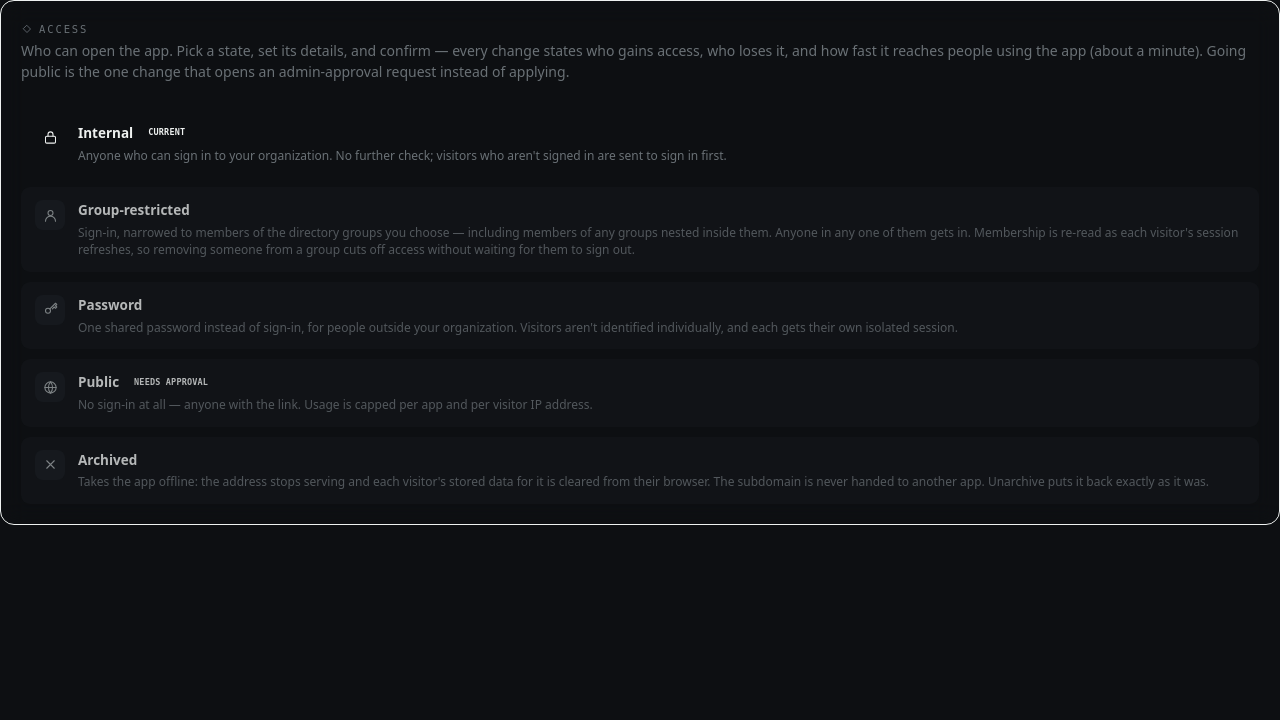
Scenario: AccessTab selector › opens an approval request to go public, with a reason for review
Click the button "Public" at [99, 382], box [35, 372, 593, 413]
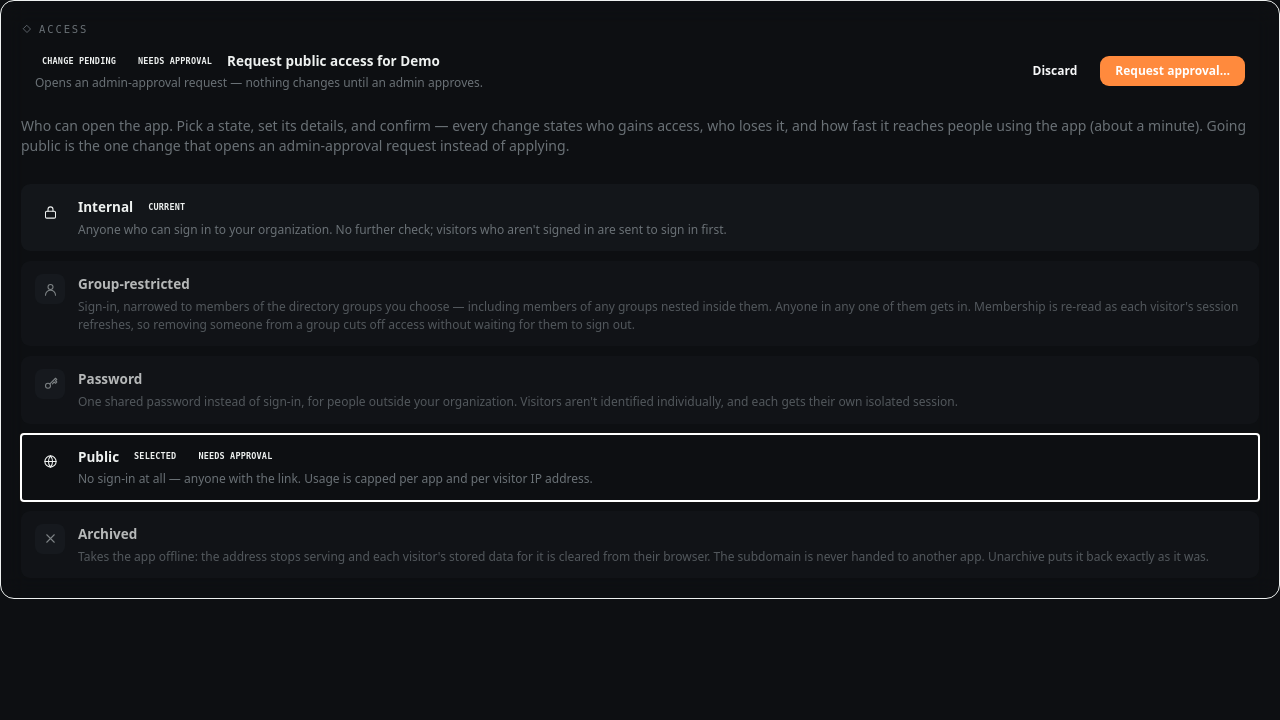
Click the button "Request approval…" at [1173, 71], box [1100, 56, 1245, 86]
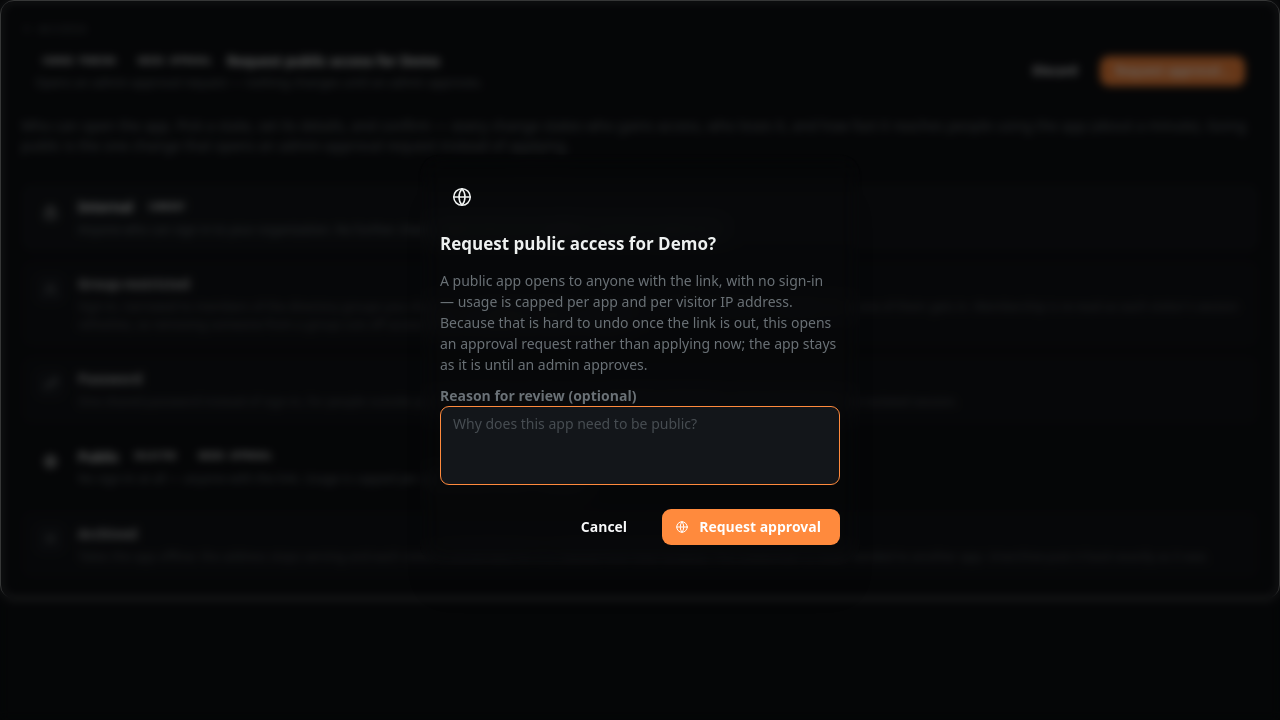
Expected: the text "Request public access for Demo?" is shown, [440, 232, 716, 256]
Type "launch" into the text box labelled "Reason for review (optional)" at [640, 446], box [440, 406, 840, 485]
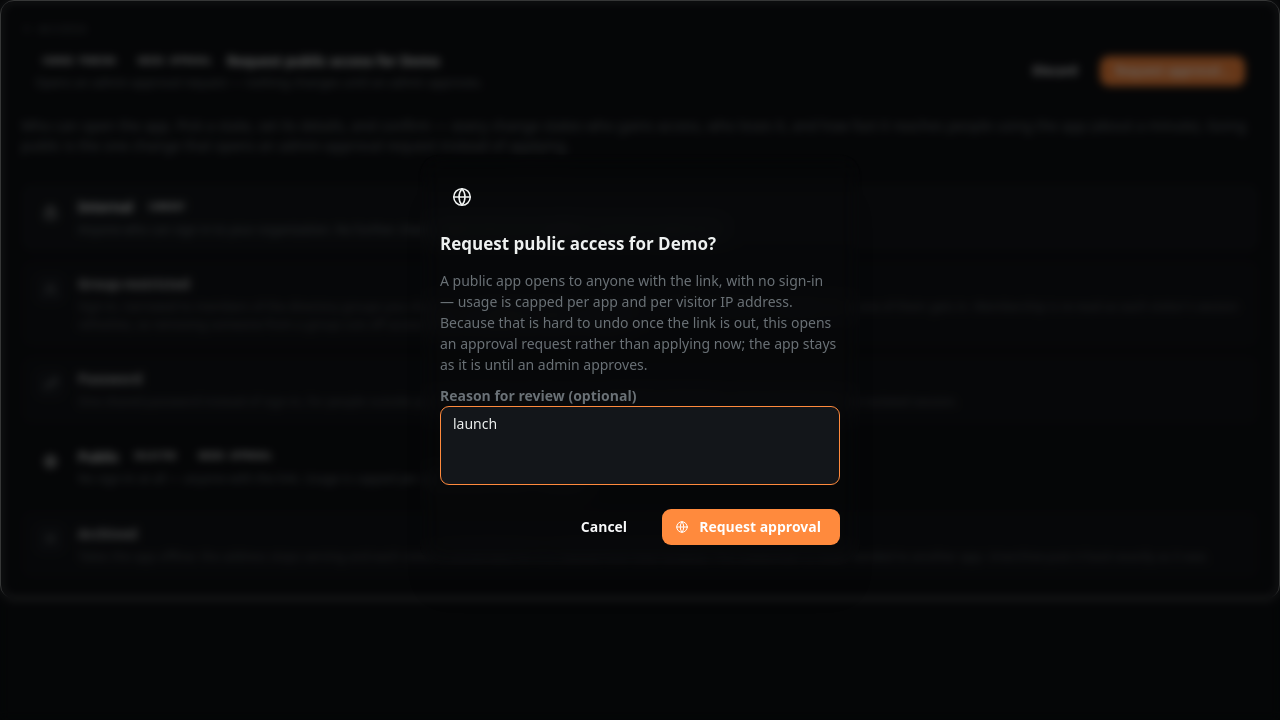
Click the button "Request approval" at [751, 526], box [662, 508, 840, 544]
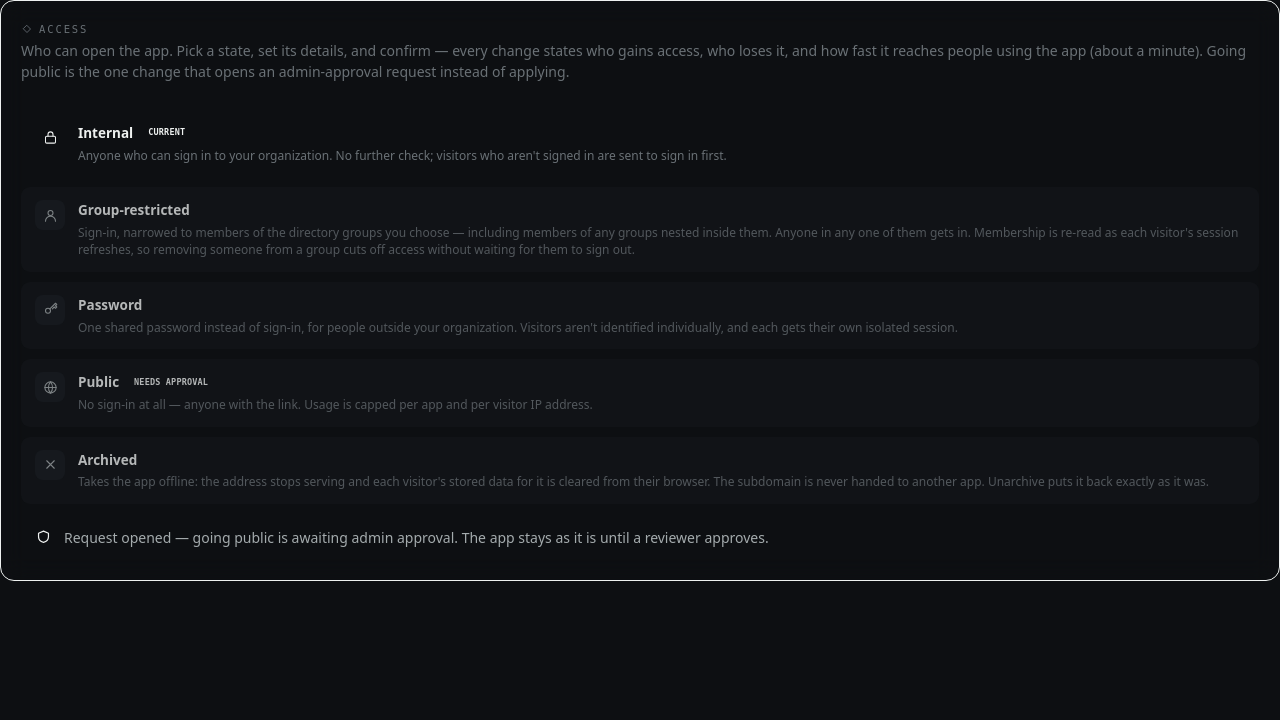
Expected: the text "awaiting admin approval" is shown, [64, 528, 769, 547]
